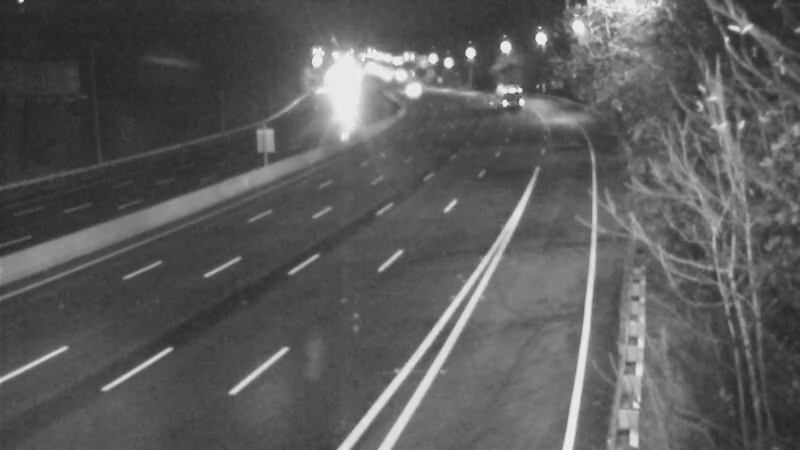vehicle: (385, 64, 435, 114), (481, 70, 531, 120), (318, 75, 368, 125)
